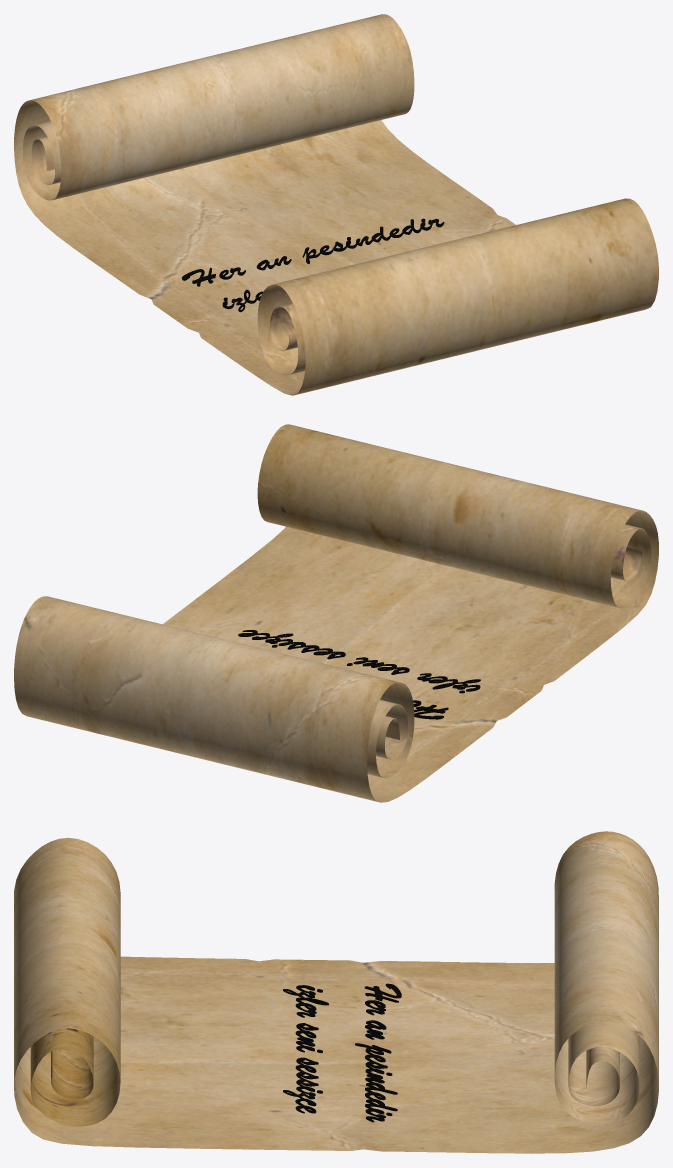
File: Scroll Texted.fbx
3 views of the same model, one above another, from view 1: azimuth 30°, elevation 25°; view 2: azimuth 150°, elevation 25°; view 3: azimuth 270°, elevation 25° (orthographic). The views are drawn at different scales.
Parts seen in each view (by area): view 1: Scroll, Text; view 2: Scroll, Text; view 3: Scroll, Text.
Boxes of the visible parts, left/top/right/bottom form: Scroll: left=14, top=14, right=658, bottom=395; Text: left=182, top=218, right=444, bottom=312; Scroll: left=14, top=424, right=658, bottom=802; Text: left=238, top=630, right=480, bottom=719; Scroll: left=14, top=831, right=658, bottom=1153; Text: left=283, top=983, right=401, bottom=1122.
Bounding box in the file's own units: 2295 × 740 × 3283.
2 materials, 1 textured.
